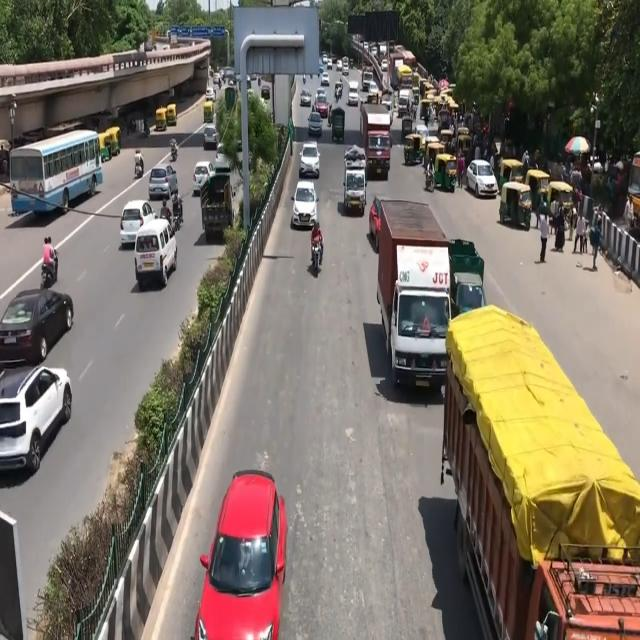Truck: (451, 320, 640, 640), (380, 202, 448, 394)
